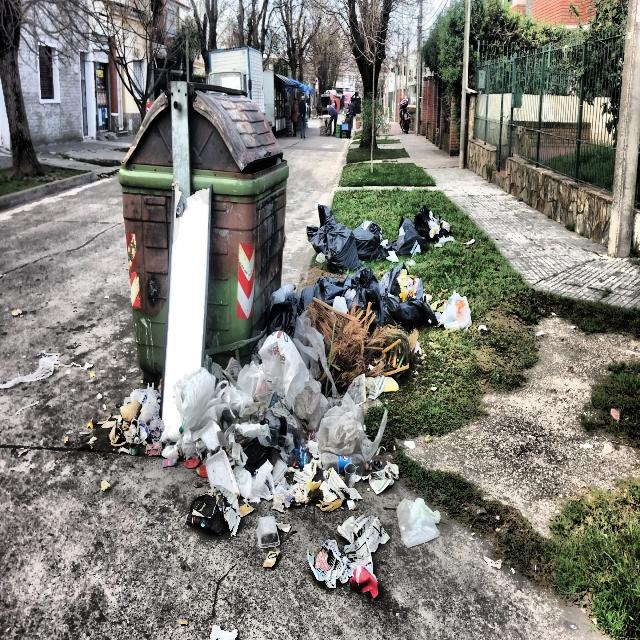garbage: (130, 336, 378, 574), (286, 265, 470, 347), (307, 207, 450, 260)
